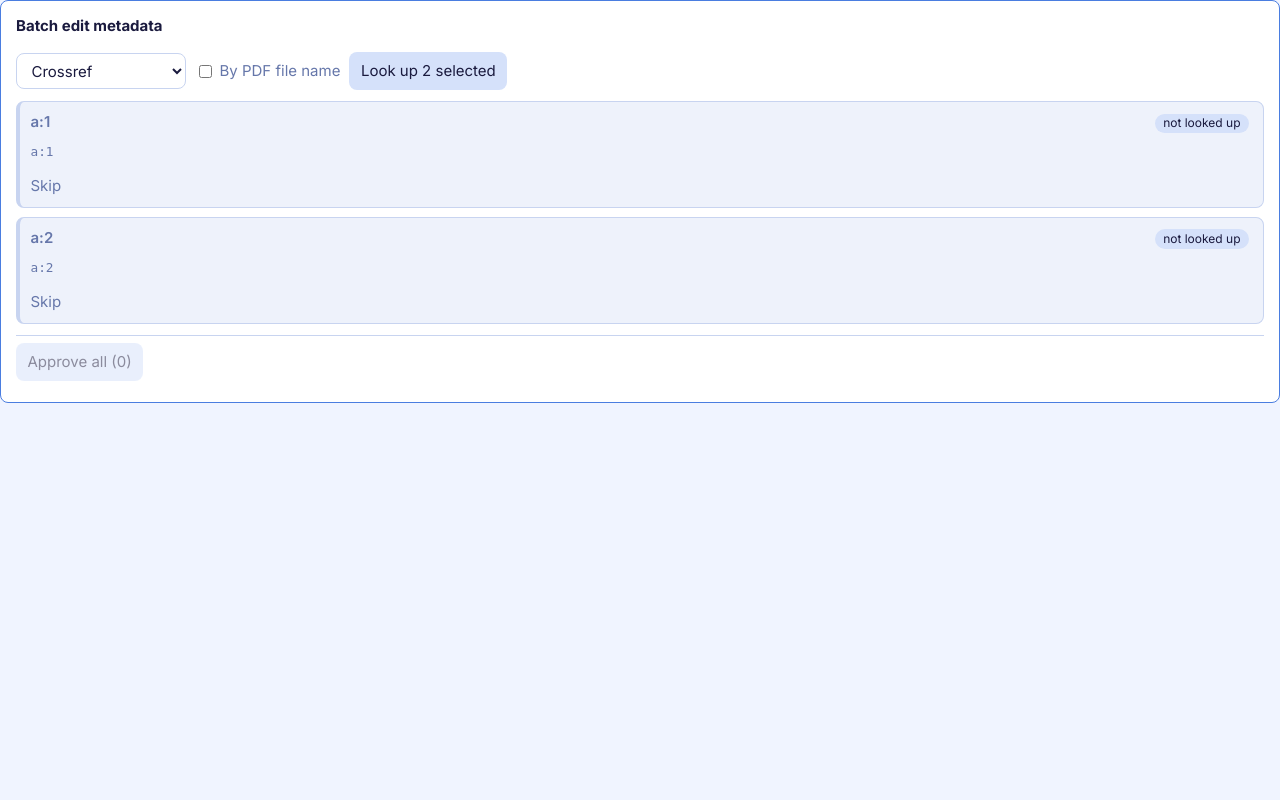
BatchMetadata › Approve all reloads once and sends the loaded tags
The width and height of the screenshot is (1280, 800).
Click the button "Look up 2 selected" at (428, 71), box [349,52,507,90]
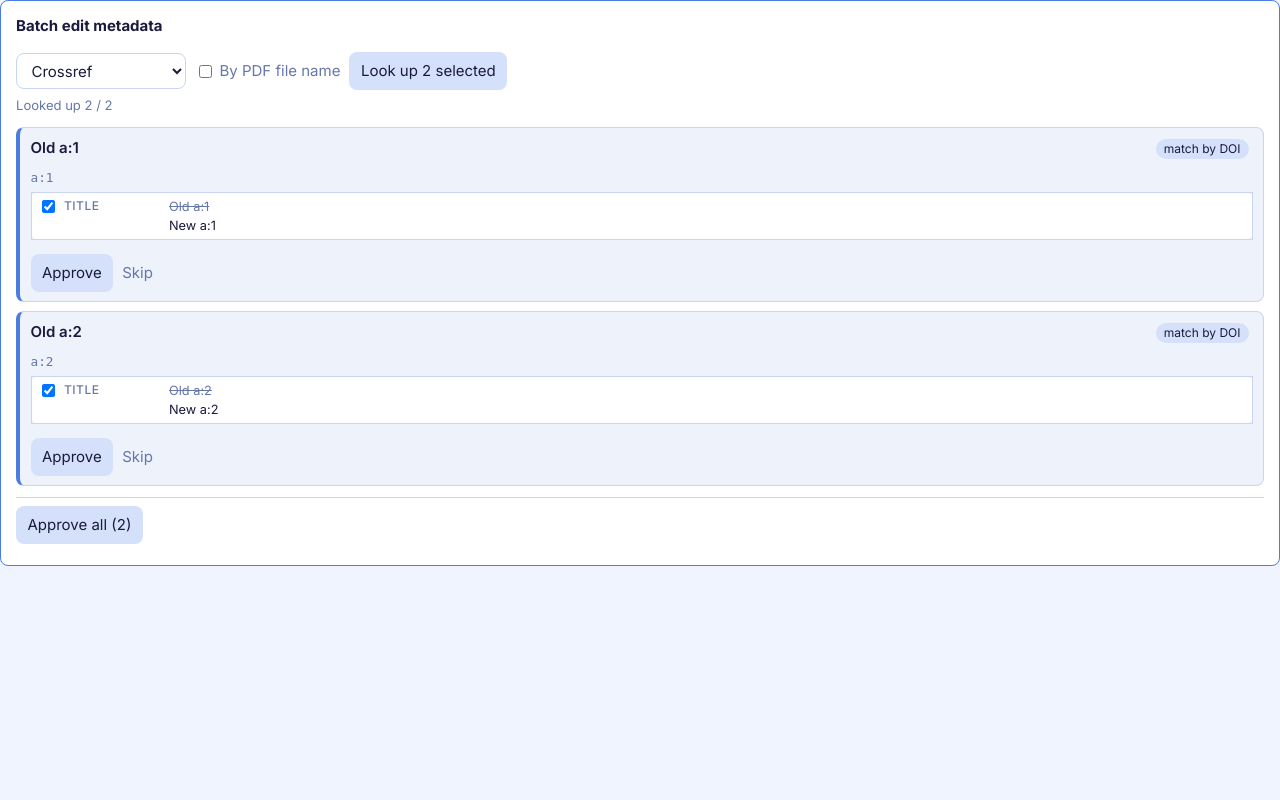
Click the button "Approve all (2)" at (79, 525), box [16,506,143,544]
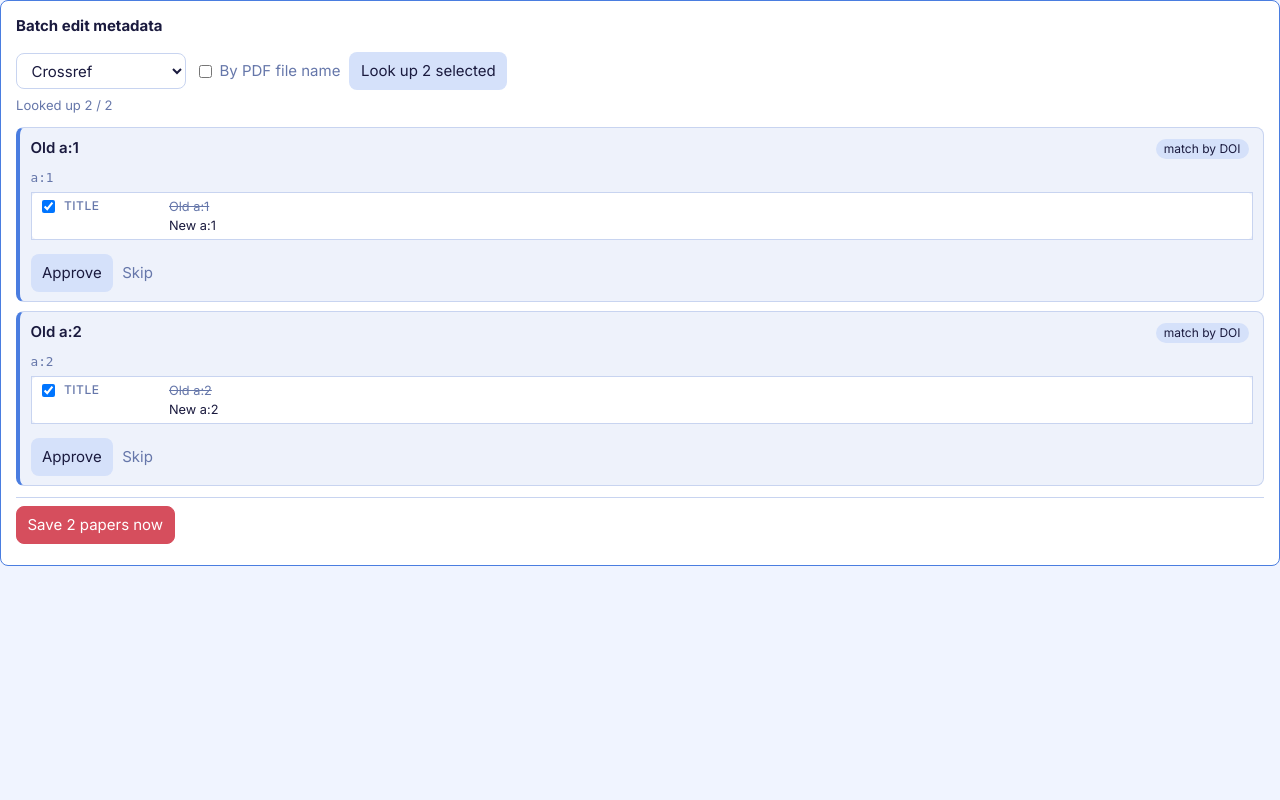
Click the button "Save 2 papers now" at (95, 525), box [16,506,175,544]
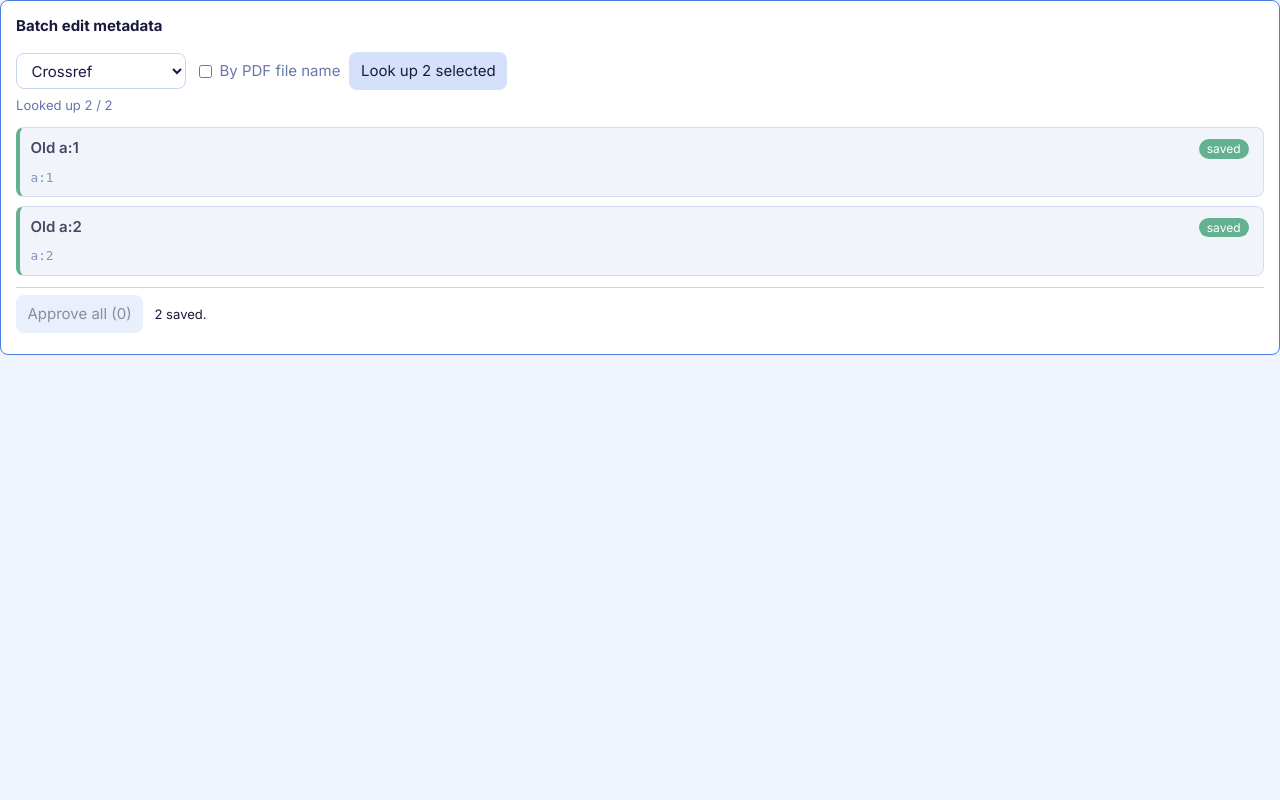
Now the text "2 saved." is shown, box [154,304,207,324]
